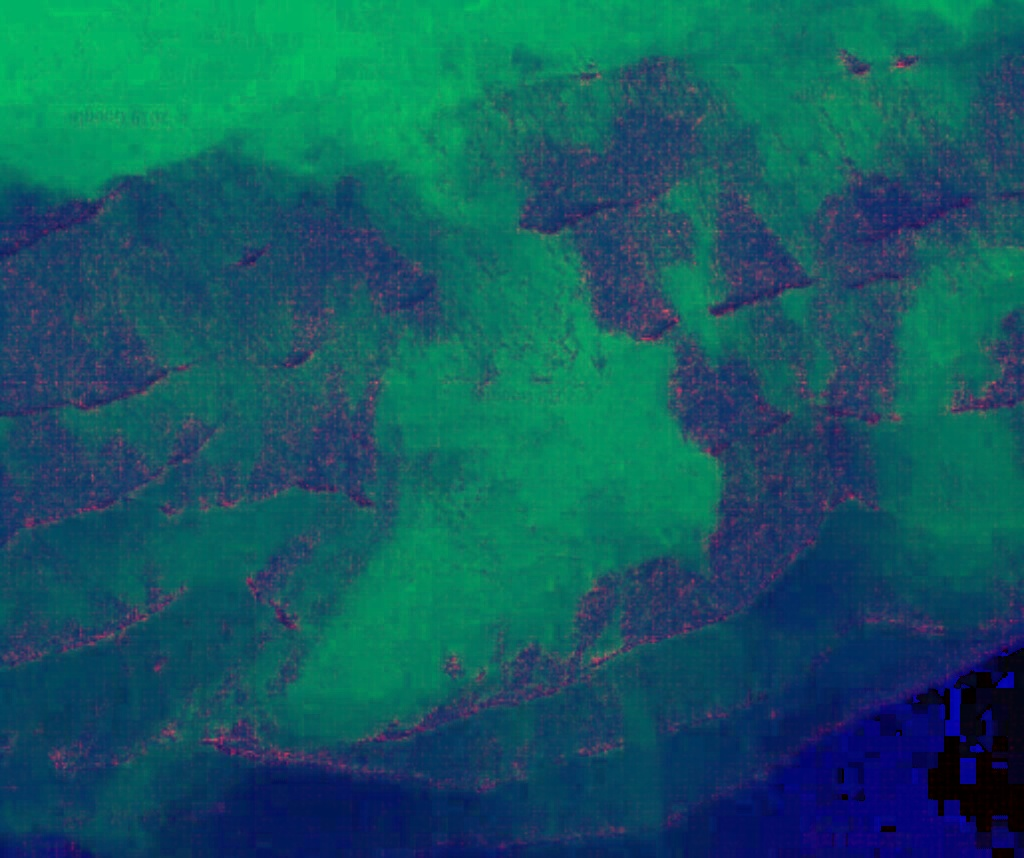rip_current: (282, 59, 713, 742)
